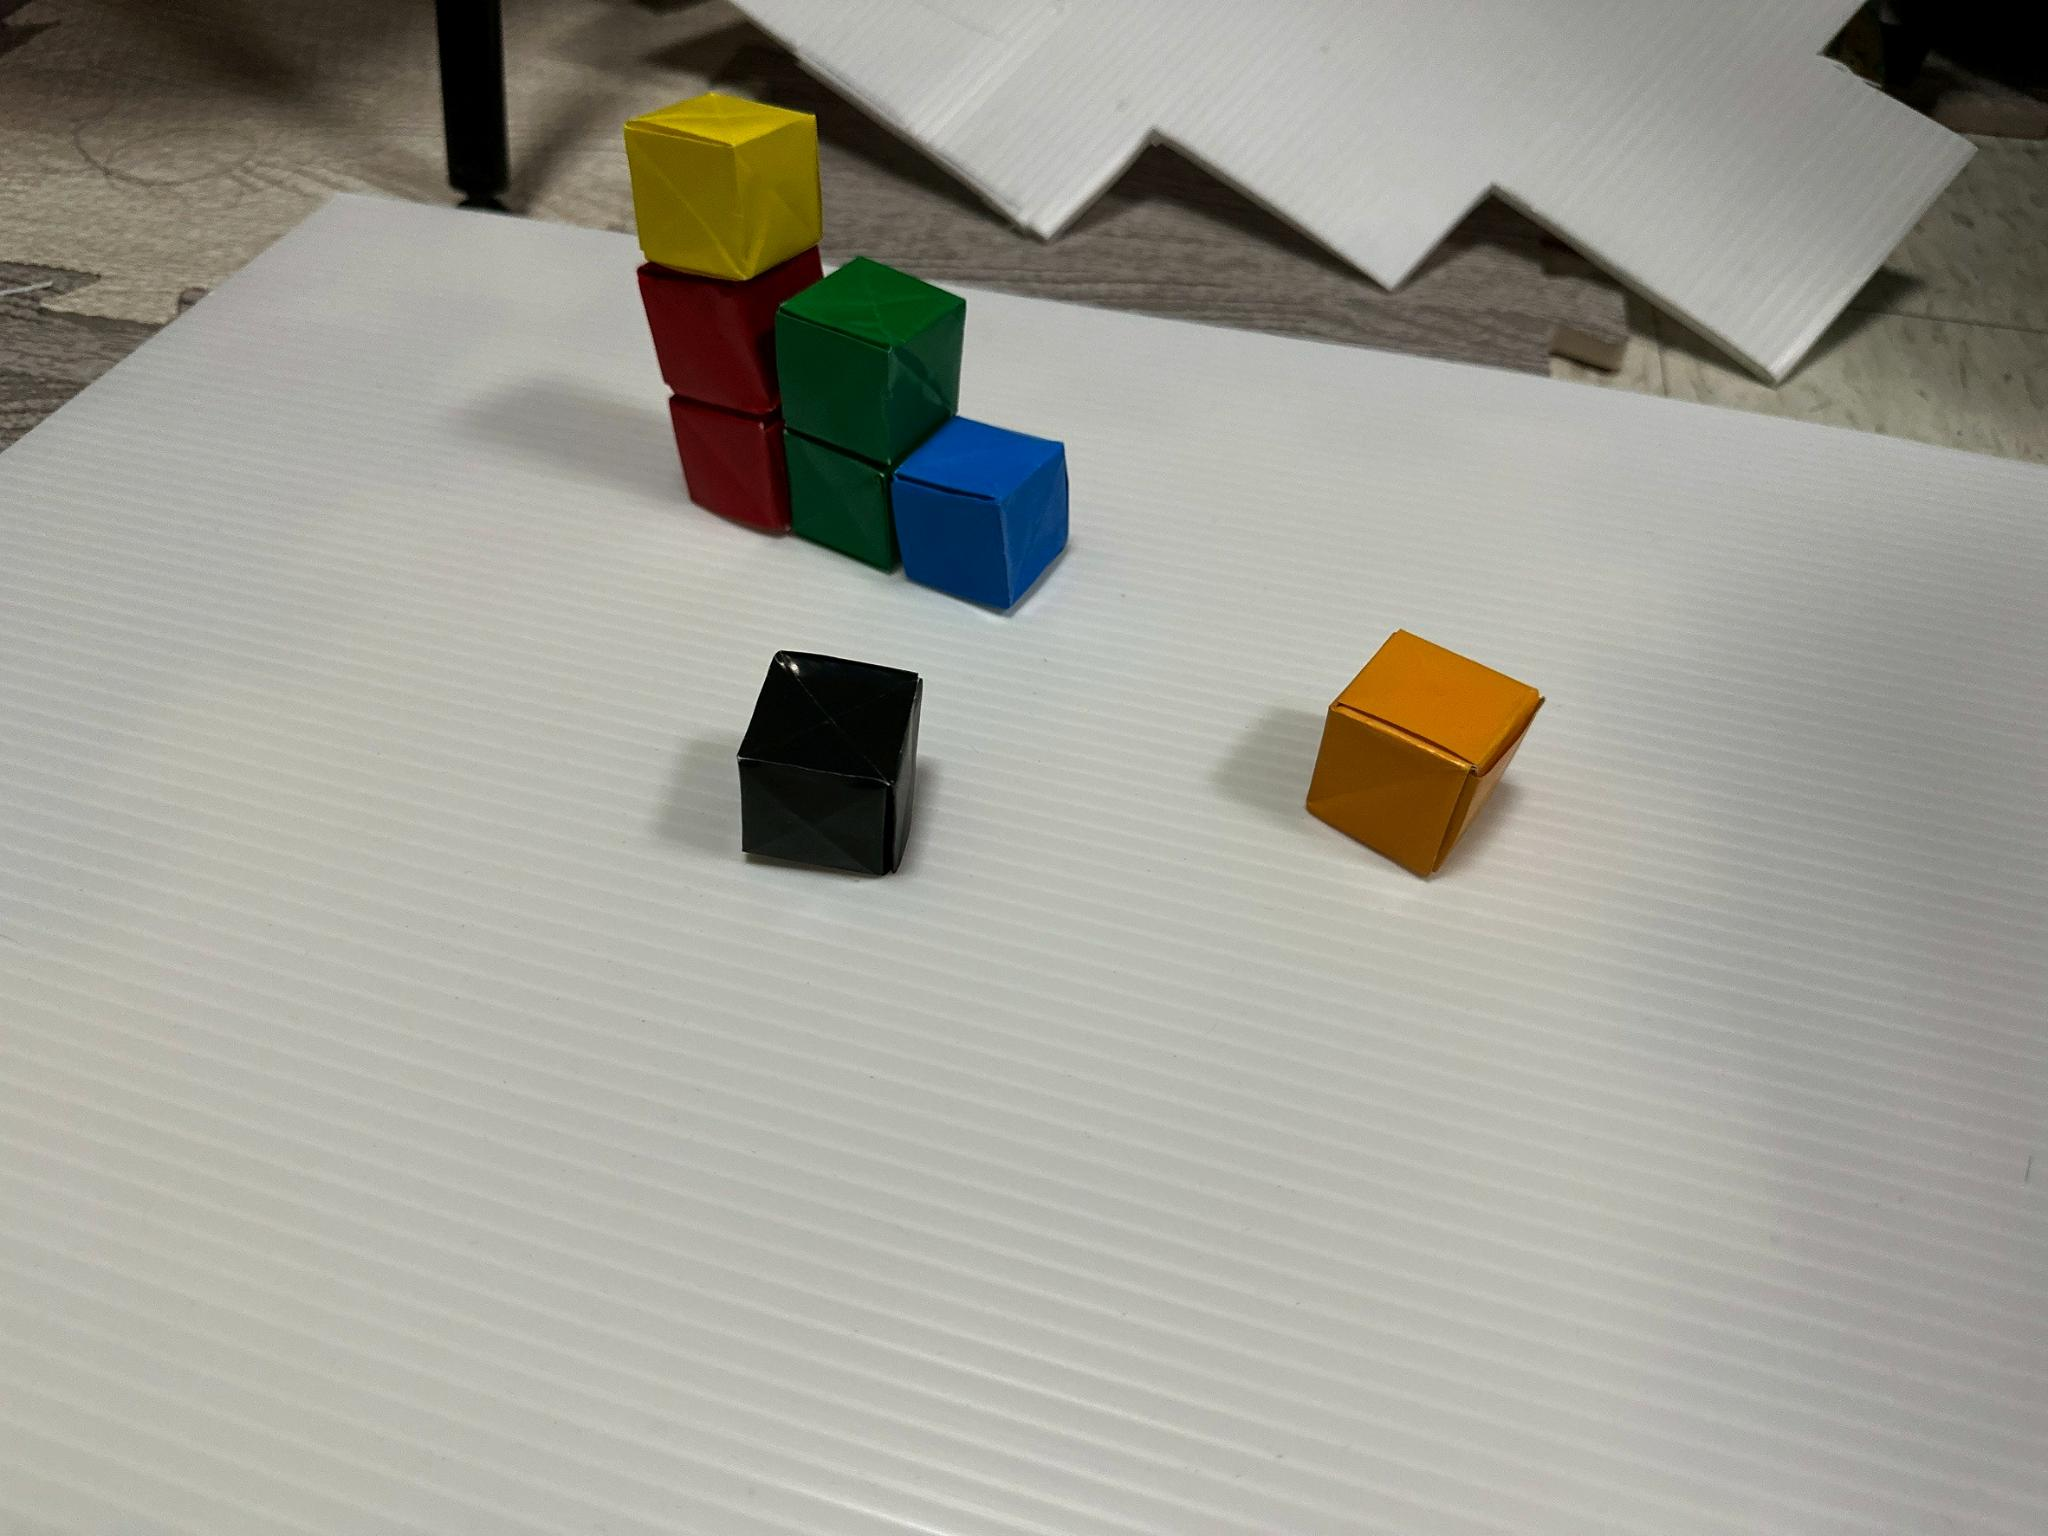base: (1308, 632, 1542, 874), (739, 652, 919, 876), (776, 258, 964, 466), (626, 92, 821, 279), (892, 416, 1068, 611), (637, 247, 821, 423), (785, 424, 900, 571), (674, 400, 789, 532)
